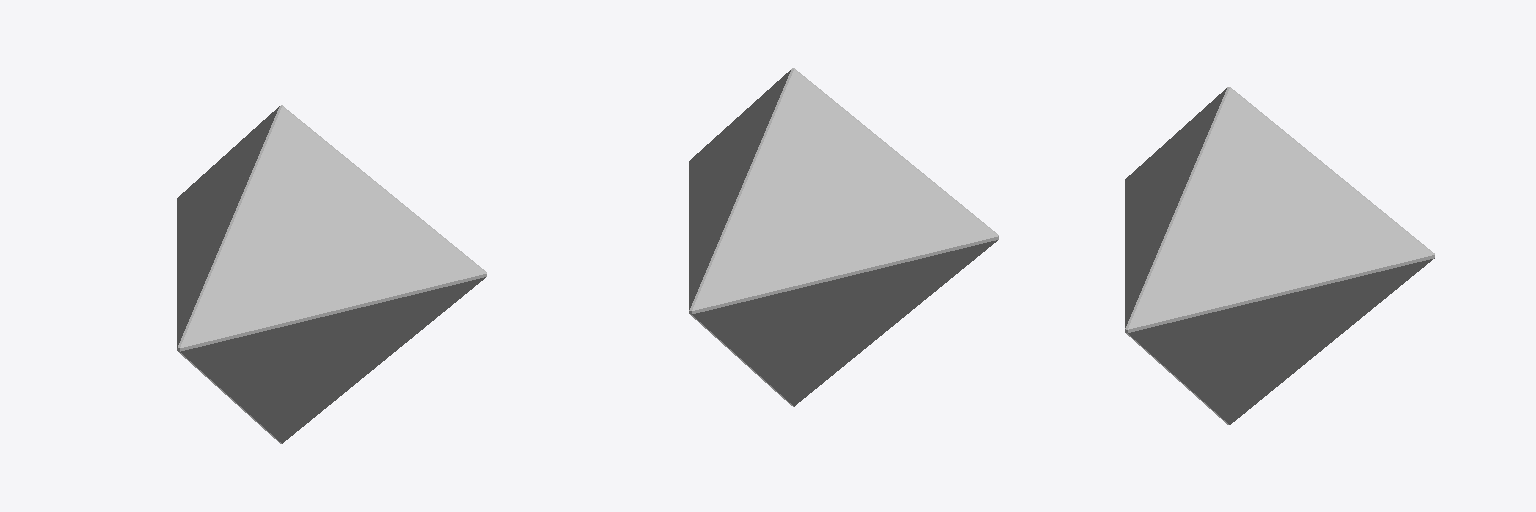
File: 3-point-cut.obj
The picture shows the model from 3 angles: view 1: azimuth 30°, elevation 25°; view 2: azimuth 150°, elevation 25°; view 3: azimuth 270°, elevation 25°; orthographic projection.
Parts seen in each view (by area): view 1: gem_Cylinder; view 2: gem_Cylinder; view 3: gem_Cylinder.
Part boxes in pixels (x1,y1,x2,y2): gem_Cylinder: (177, 105, 486, 443); gem_Cylinder: (689, 68, 998, 406); gem_Cylinder: (1125, 87, 1434, 424).
Size of the model in its own units: 17.02 by 17.73 by 14.74.